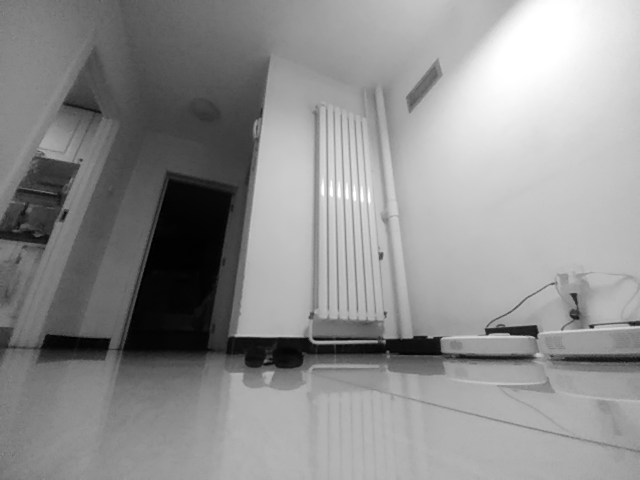others: (243, 342, 306, 370)
